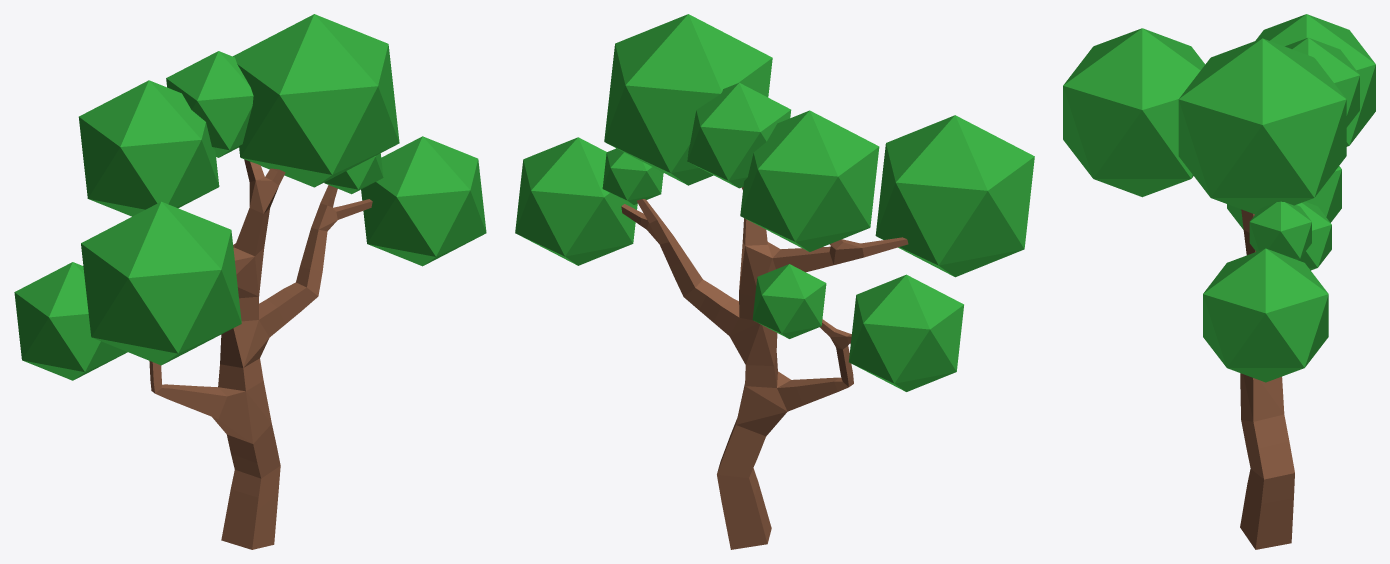
File: Tree1.fbx
3 renders of one model, left to right at view 1: azimuth 30°, elevation 25°; view 2: azimuth 150°, elevation 25°; view 3: azimuth 270°, elevation 25°, orthographic. The views are drawn at different scales.
Visible parts, largest first — view 1: Icosphere.010; view 2: Icosphere.010; view 3: Icosphere.010.
Part boxes in pixels (<box>): Icosphere.010: <box>14,14,486,549</box>; Icosphere.010: <box>515,14,1034,549</box>; Icosphere.010: <box>1063,14,1375,549</box>.
Bounding box in the file's own units: 653 × 722 × 384.
